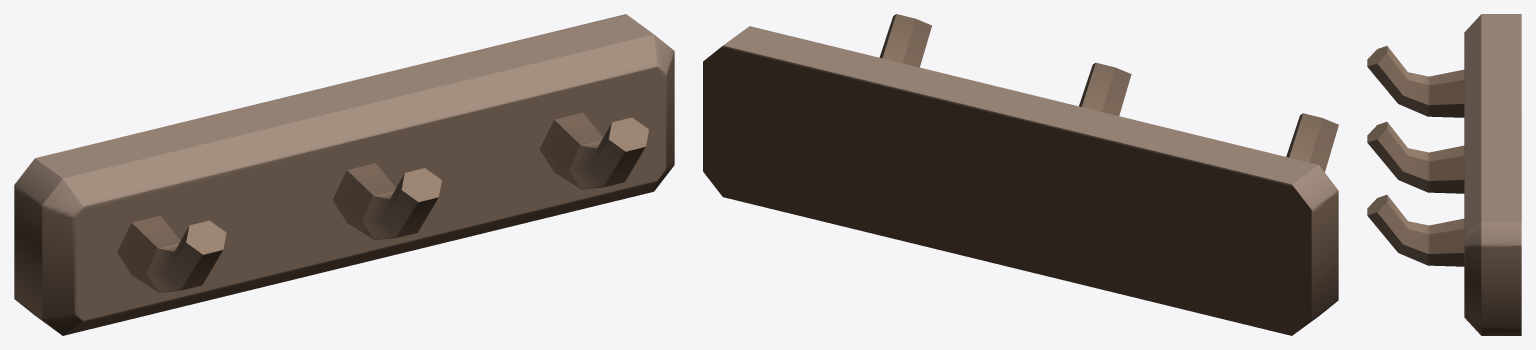
Rendered from housepack_holder_1.FBX.
3 renders of one model, left to right at view 1: azimuth 30°, elevation 25°; view 2: azimuth 150°, elevation 25°; view 3: azimuth 270°, elevation 25°, orthographic. The views are drawn at different scales.
Visible parts, largest first — view 1: housepack_holder_1; view 2: housepack_holder_1; view 3: housepack_holder_1.
Boxes of the visible parts, x1=… form: housepack_holder_1: x1=14, y1=14, x2=674, y2=335; housepack_holder_1: x1=703, y1=14, x2=1338, y2=335; housepack_holder_1: x1=1367, y1=14, x2=1521, y2=335.
Size of the model in its own units: 29.28 by 6.96 by 8.57.
